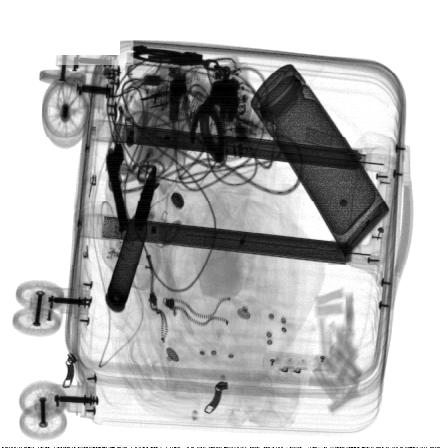Bullet: (104, 165, 157, 312)
Gun: (105, 140, 129, 237)
HandCuffs: (130, 47, 239, 165)
